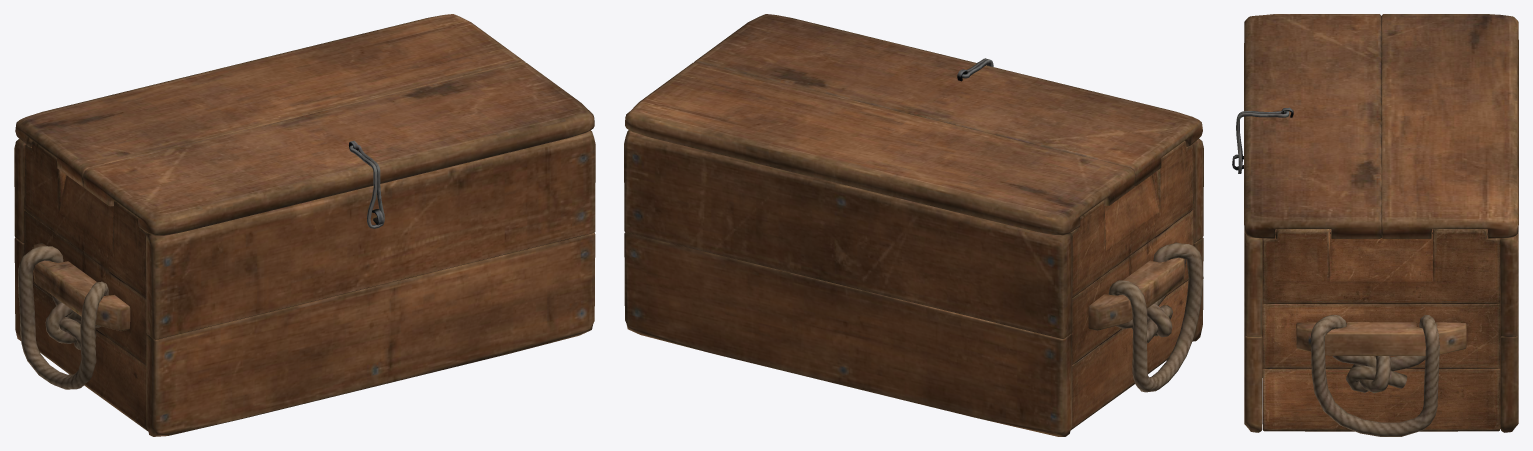
The model's file is crate.glb.
The picture shows the model from 3 angles, left to right: view 1: azimuth 30°, elevation 25°; view 2: azimuth 150°, elevation 25°; view 3: azimuth 270°, elevation 25°; orthographic projection. The views are drawn at different scales.
Visible parts, largest first — view 1: wooden_crate_01, wooden_crate_01_lid, wooden_crate_01_latch; view 2: wooden_crate_01, wooden_crate_01_lid; view 3: wooden_crate_01_lid, wooden_crate_01, wooden_crate_01_latch.
Part boxes in pixels (box(x1,y1,x2,y2)): wooden_crate_01: box(14, 130, 595, 436); wooden_crate_01_lid: box(15, 14, 594, 236); wooden_crate_01_latch: box(349, 145, 384, 228); wooden_crate_01: box(624, 130, 1203, 436); wooden_crate_01_lid: box(625, 14, 1202, 235); wooden_crate_01_lid: box(1244, 14, 1518, 238); wooden_crate_01: box(1232, 154, 1518, 436); wooden_crate_01_latch: box(1236, 111, 1289, 173).
Size of the model in its own units: 1.06 by 0.4498 by 0.5258.
1 material, 1 textured.
